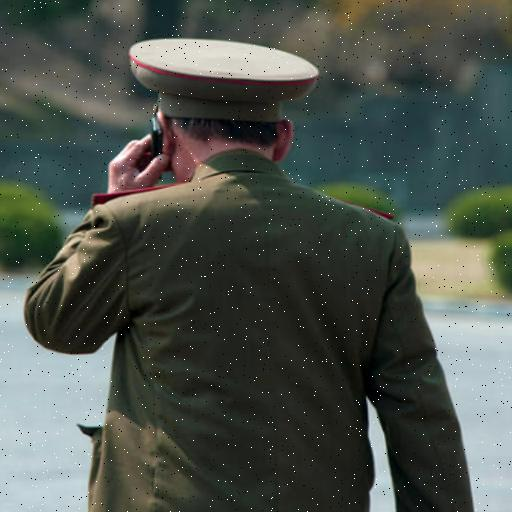north army: (41, 45, 512, 512)
